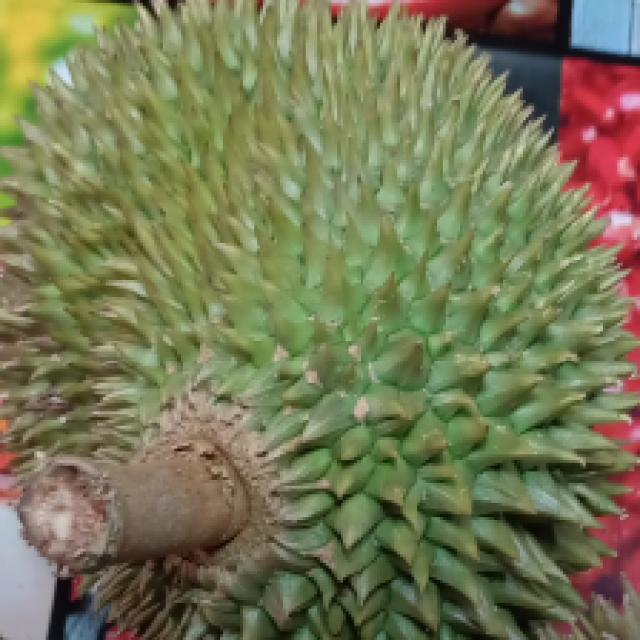d24: (19, 25, 582, 630)
